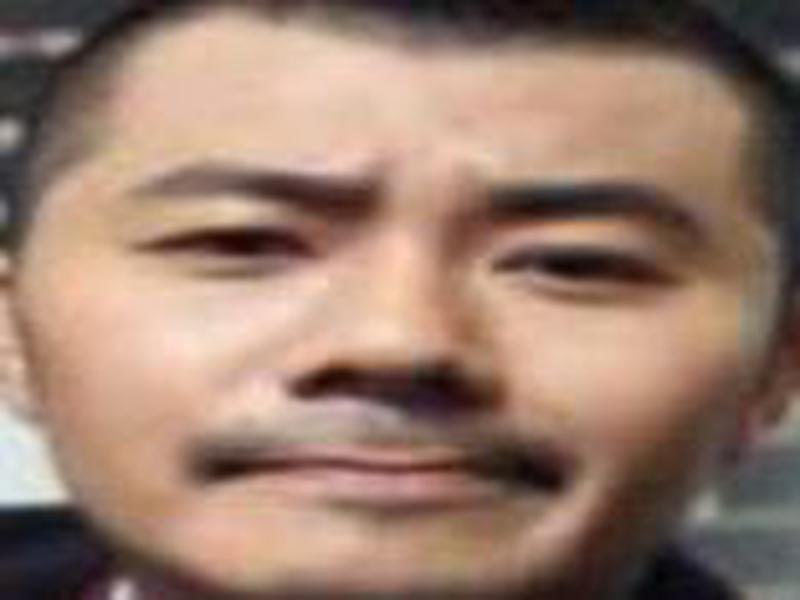without_mask: (27, 57, 765, 599)
